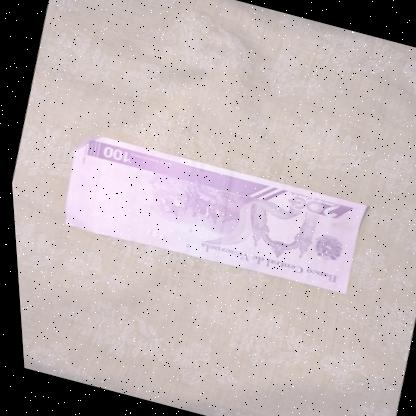one_hundred-back-vef: (51, 130, 368, 300)
